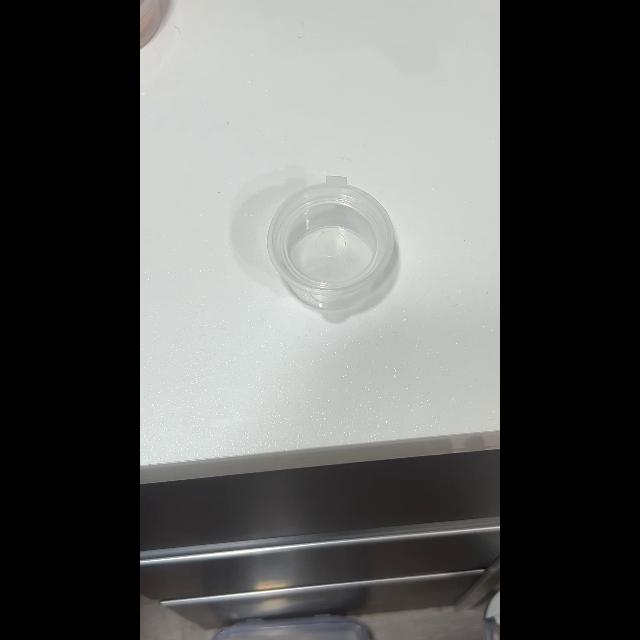clean: (266, 177, 394, 311)
